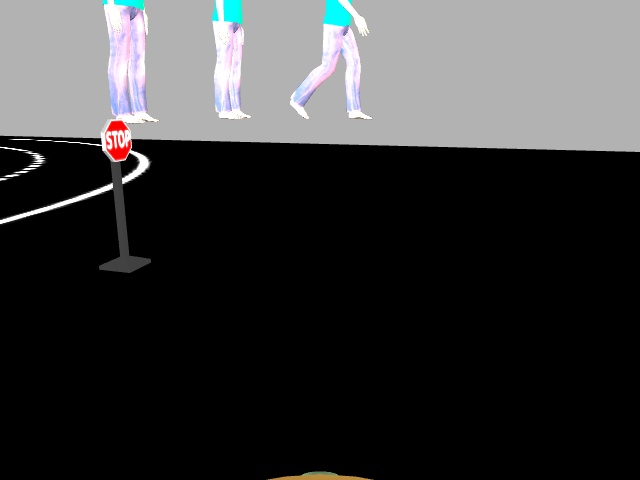Stop: (97, 116, 133, 161)
